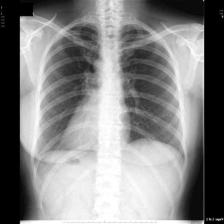tuberculosis: (33, 14, 188, 183)
